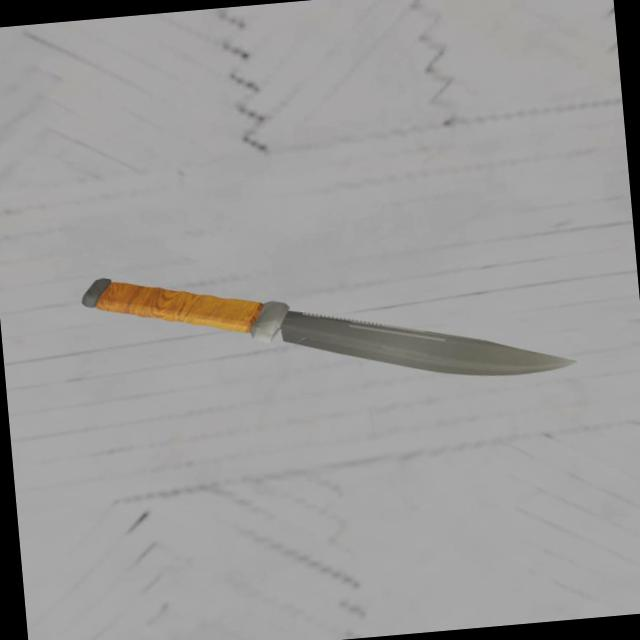knife: (85, 262, 281, 344)
